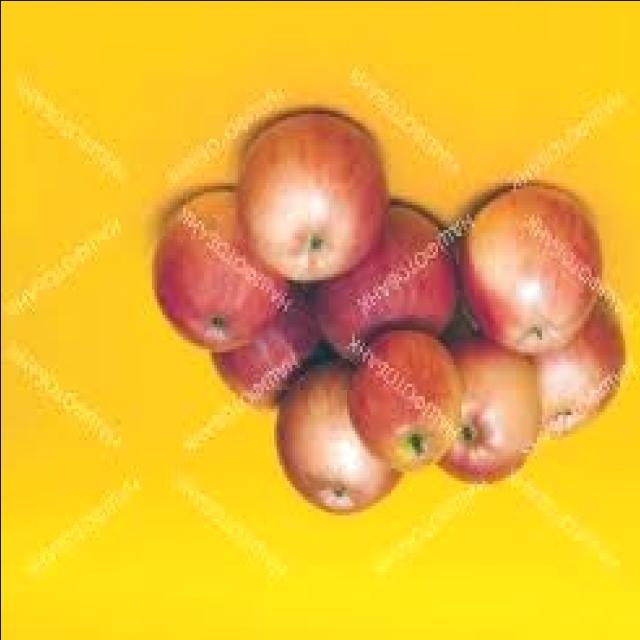agrume: (131, 179, 297, 357), (239, 100, 387, 296), (466, 182, 614, 366), (269, 366, 419, 546), (205, 270, 347, 455), (508, 277, 632, 471), (312, 200, 472, 344), (340, 336, 468, 496), (434, 349, 550, 511)
